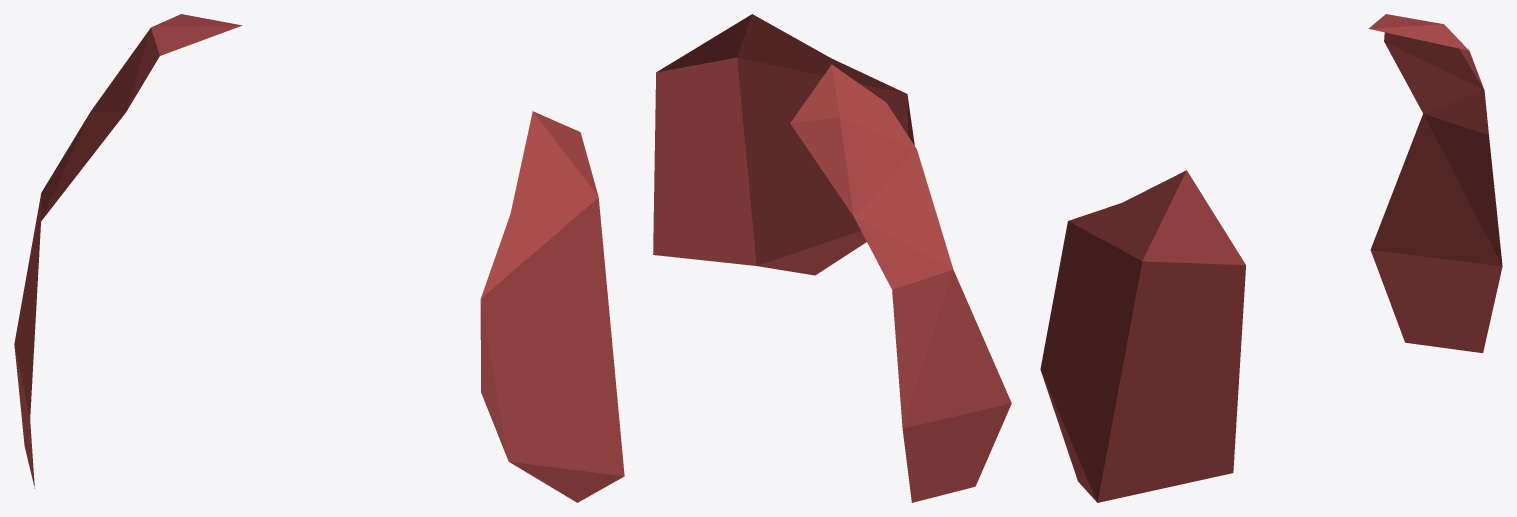
File: Stone_Yellow_A_01_Light.FBX
3 views of the same model, side by side, from view 1: azimuth 30°, elevation 25°; view 2: azimuth 150°, elevation 25°; view 3: azimuth 270°, elevation 25° (orthographic). The views are drawn at different scales.
Visible parts, largest first — view 1: Stone_Yellow_A_01_Light; view 2: Stone_Yellow_A_01_Light; view 3: Stone_Yellow_A_01_Light.
Boxes of the visible parts, left/top/right/bottom form: Stone_Yellow_A_01_Light: left=14, top=14, right=624, bottom=502; Stone_Yellow_A_01_Light: left=653, top=14, right=1011, bottom=502; Stone_Yellow_A_01_Light: left=1040, top=14, right=1502, bottom=502.
Bounding box in the file's own units: 1.9 × 1.59 × 1.67.
